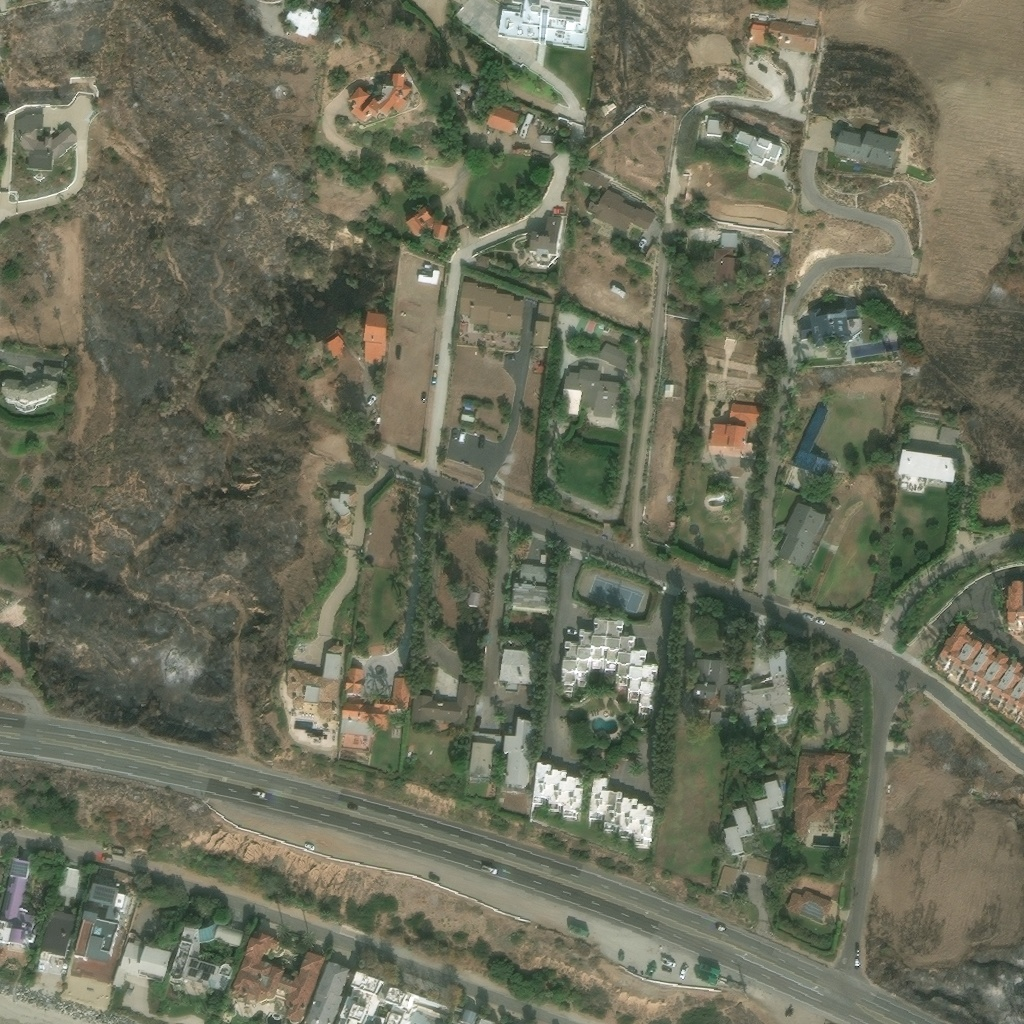0 no-damage: (559, 618, 658, 718), (230, 932, 325, 1023), (937, 621, 1023, 714), (167, 922, 245, 997), (337, 970, 445, 1023), (792, 751, 852, 841), (588, 775, 655, 851), (497, 0, 591, 51), (73, 882, 126, 964), (341, 676, 414, 733), (14, 112, 78, 171), (285, 652, 341, 719), (410, 677, 479, 731), (457, 281, 524, 335), (777, 501, 826, 571), (585, 188, 657, 232), (561, 367, 623, 418), (302, 960, 352, 1023), (833, 123, 900, 170), (739, 675, 796, 730), (348, 73, 410, 123), (1, 364, 63, 414), (797, 298, 859, 347), (532, 761, 584, 819), (110, 941, 172, 988), (790, 403, 829, 474), (747, 18, 820, 54), (709, 401, 764, 448), (501, 717, 535, 792), (897, 449, 960, 483), (692, 659, 735, 704), (733, 128, 783, 166), (39, 909, 76, 958), (752, 780, 785, 833), (723, 805, 754, 858), (499, 649, 537, 692), (405, 204, 448, 241), (526, 216, 560, 261), (786, 890, 832, 922), (712, 230, 738, 286), (361, 312, 388, 365), (510, 581, 553, 612), (329, 490, 357, 537), (283, 7, 322, 38), (483, 102, 519, 135), (467, 743, 495, 784), (599, 339, 633, 371), (1004, 581, 1023, 629), (518, 562, 550, 583), (578, 167, 609, 188), (344, 667, 363, 701), (338, 734, 372, 752), (323, 335, 346, 361), (717, 866, 738, 891), (937, 425, 962, 445), (532, 321, 551, 347), (416, 270, 439, 285), (706, 118, 723, 137), (710, 711, 730, 726), (458, 1009, 477, 1023), (366, 644, 385, 657), (599, 102, 616, 116), (466, 591, 480, 607), (532, 359, 546, 373), (663, 383, 673, 397), (460, 413, 474, 423), (539, 134, 554, 142)
4 un-classified: (634, 235, 647, 251), (449, 448, 457, 455)
